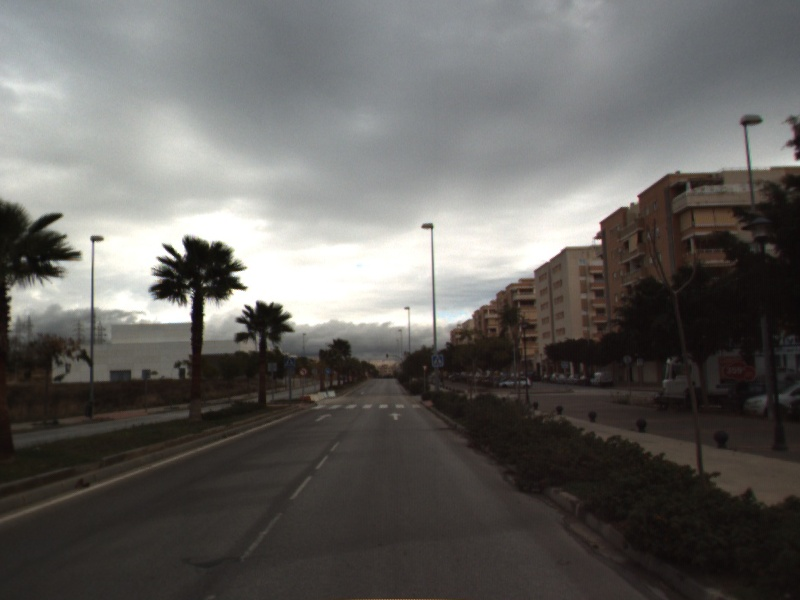STRAIGHT: (313, 411, 334, 423), (387, 410, 404, 422)
